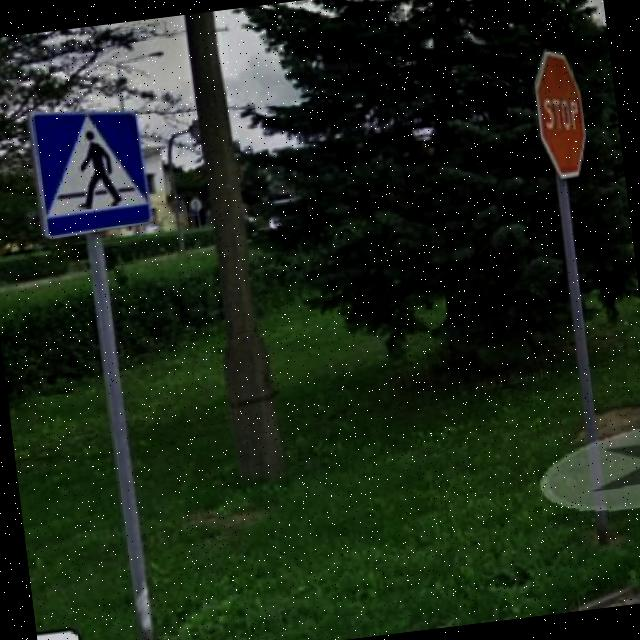Przejscie dla pieszych: (24, 98, 154, 240)
Stop: (528, 44, 591, 181)
